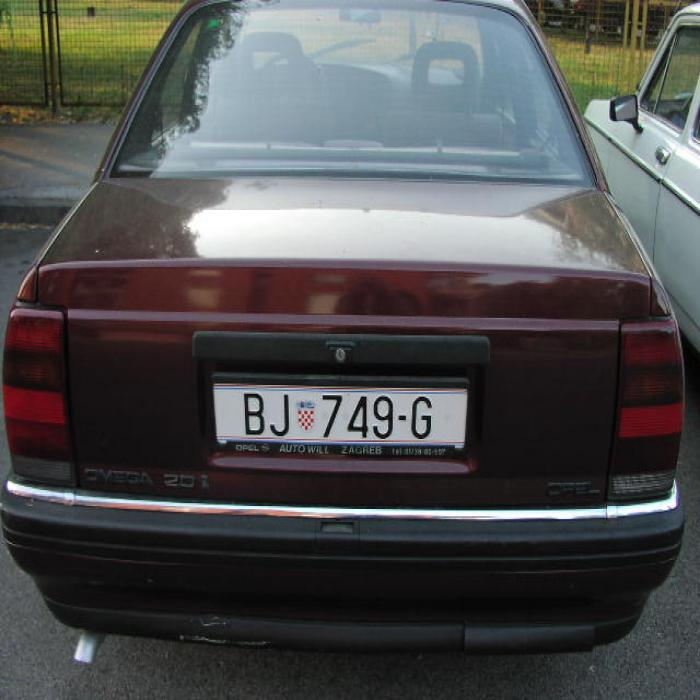number_plate: (212, 379, 464, 445)
